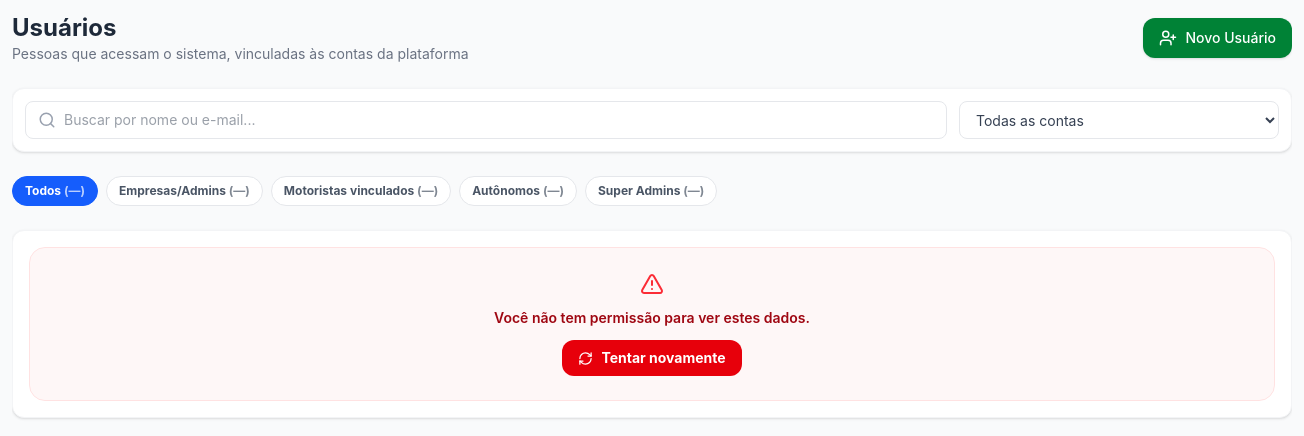
Scenario: Usuarios (página real, API mockada) › 6. "Tentar novamente" dispara nova carga
The width and height of the screenshot is (1304, 436).
Step 1. Click the button "Tentar novamente" → {"x": 652, "y": 358}, box x1=562 y1=340 x2=742 y2=376
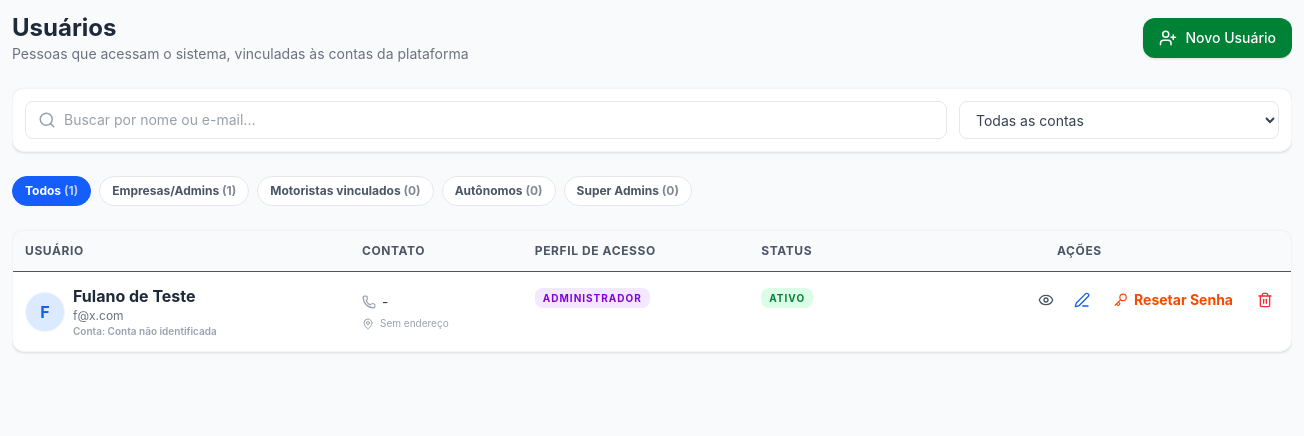
Result: the text "Fulano de Teste" is shown at x1=73 y1=284 x2=217 y2=308
